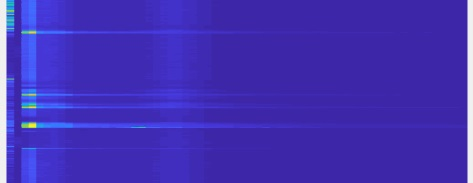leak: (14, 35, 61, 83), (22, 145, 67, 183), (19, 1, 47, 28)
